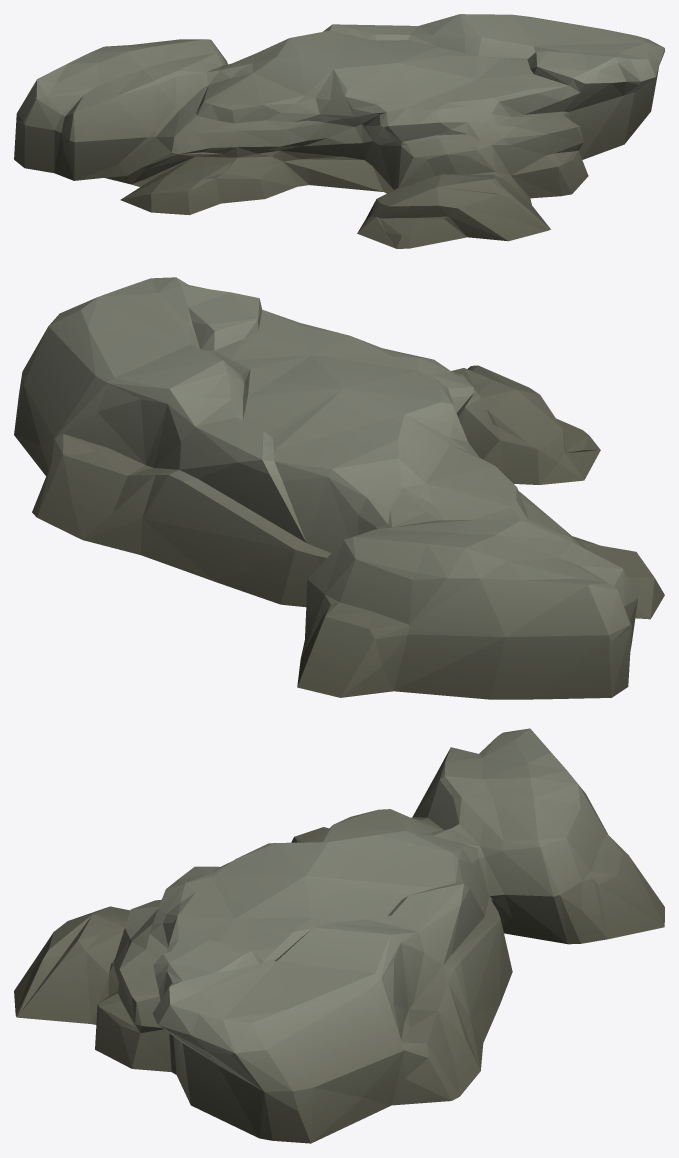
Rendered from ZLP_Rock_E_10.FBX.
3 views of the same model, one above another, from view 1: azimuth 30°, elevation 25°; view 2: azimuth 150°, elevation 25°; view 3: azimuth 270°, elevation 25° (orthographic). The views are drawn at different scales.
Parts seen in each view (by area): view 1: ZLP_Rock_E_10; view 2: ZLP_Rock_E_10; view 3: ZLP_Rock_E_10.
Part boxes in pixels (x1=…): ZLP_Rock_E_10: x1=14, y1=14, x2=664, y2=248; ZLP_Rock_E_10: x1=14, y1=277, x2=664, y2=699; ZLP_Rock_E_10: x1=14, y1=728, x2=664, y2=1143.
Size of the model in its own units: 526 by 88.56 by 436.
